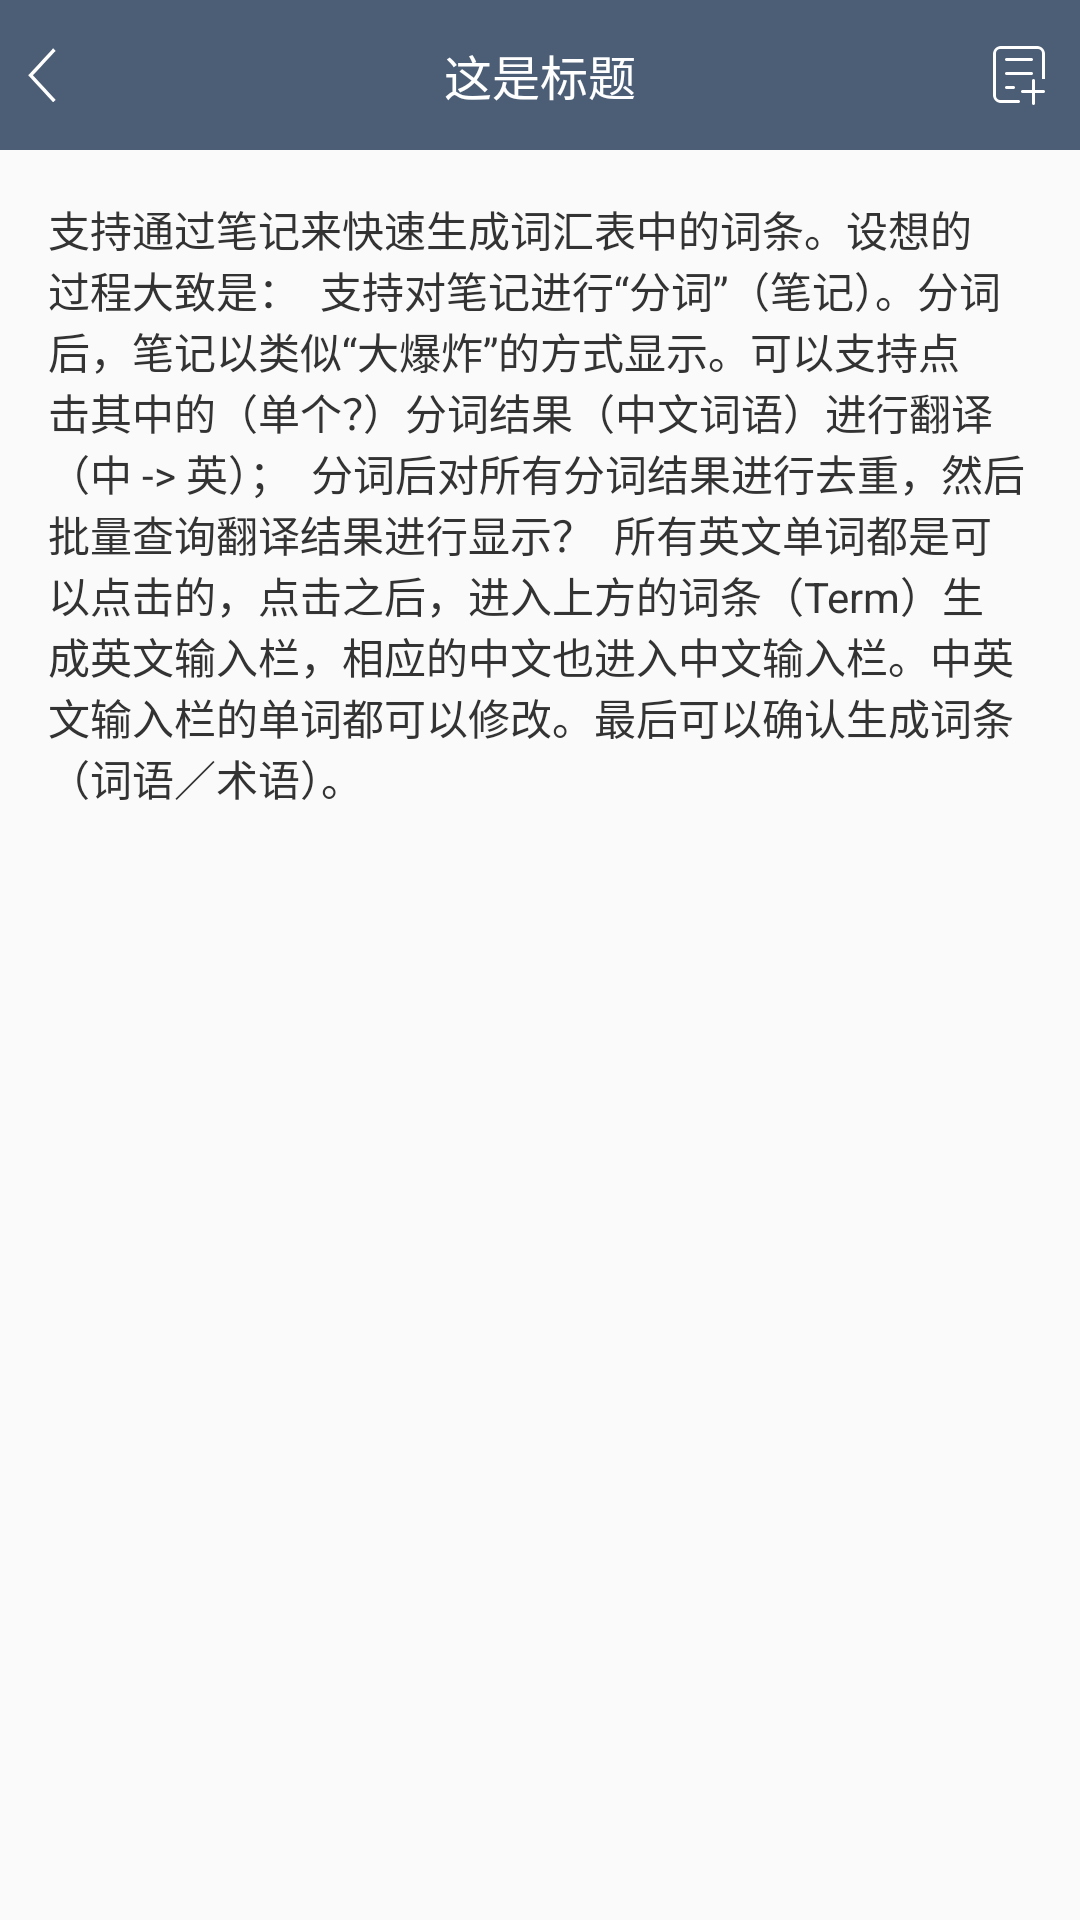

Icons on this 1080*1920 Android screen, each with its box as (x1, y1, x2, y2):
add: (993, 46, 1045, 105)
back: (28, 48, 56, 102)
